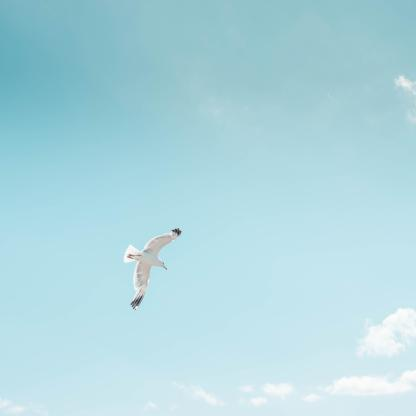bird: (124, 228, 182, 310)
